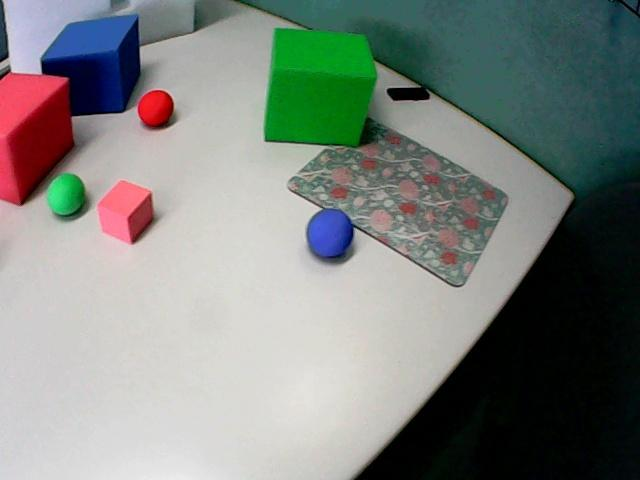blue_block: (41, 15, 139, 114)
red_block: (0, 73, 73, 204), (97, 180, 152, 242)
